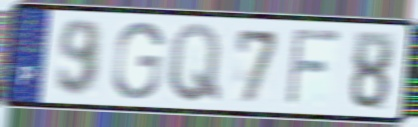7: (234, 28, 280, 105)
8: (348, 28, 396, 113)
9: (54, 16, 101, 100)
F: (283, 26, 344, 109)
G: (109, 19, 166, 102)
Q: (166, 21, 223, 105)
